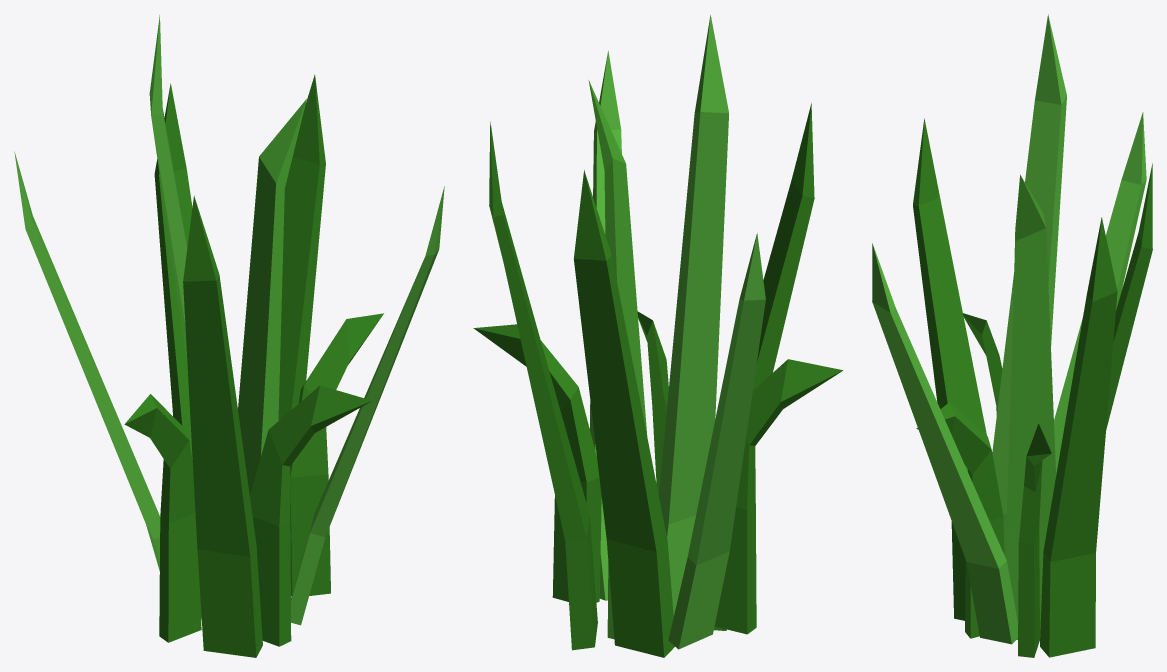
Rendered from herbe3.gltf.
3 views of the same model, side by side, from view 1: azimuth 30°, elevation 25°; view 2: azimuth 150°, elevation 25°; view 3: azimuth 270°, elevation 25° (orthographic). The views are drawn at different scales.
Visible parts, largest first — view 1: Cube; view 2: Cube; view 3: Cube.
Part boxes in pixels (x1,y1,x2,y2): Cube: (14,15,444,657); Cube: (473,15,842,657); Cube: (872,14,1152,657).
Bounding box in the file's own units: 1.59 × 2.95 × 1.28.
3 materials, 3 textured.
